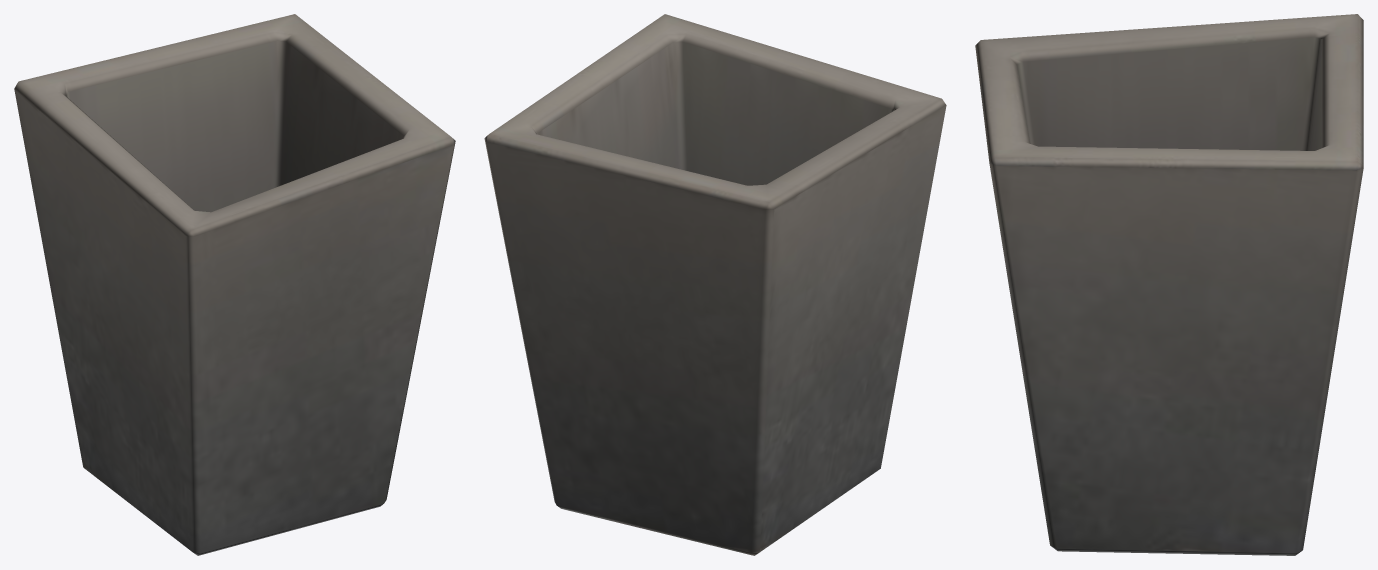
The model's file is SM_TrashBin001.glb.
3 renders of one model, left to right at view 1: azimuth 30°, elevation 25°; view 2: azimuth 150°, elevation 25°; view 3: azimuth 270°, elevation 25°, orthographic. The views are drawn at different scales.
Visible parts, largest first — view 1: SM_TrashBin001; view 2: SM_TrashBin001; view 3: SM_TrashBin001.
Part boxes in pixels (bbox=[...]): SM_TrashBin001: bbox=[14, 14, 455, 555]; SM_TrashBin001: bbox=[484, 14, 946, 555]; SM_TrashBin001: bbox=[975, 14, 1363, 555].
Size of the model in its own units: 0.3777 by 0.4795 by 0.4049.
Materials: 1 (1 with a texture image).
